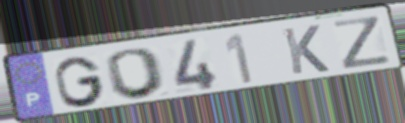1: (223, 31, 256, 87)
4: (171, 37, 220, 92)
G: (52, 55, 108, 109)
K: (280, 23, 332, 77)
O: (104, 46, 170, 102)
Z: (331, 14, 395, 72)
